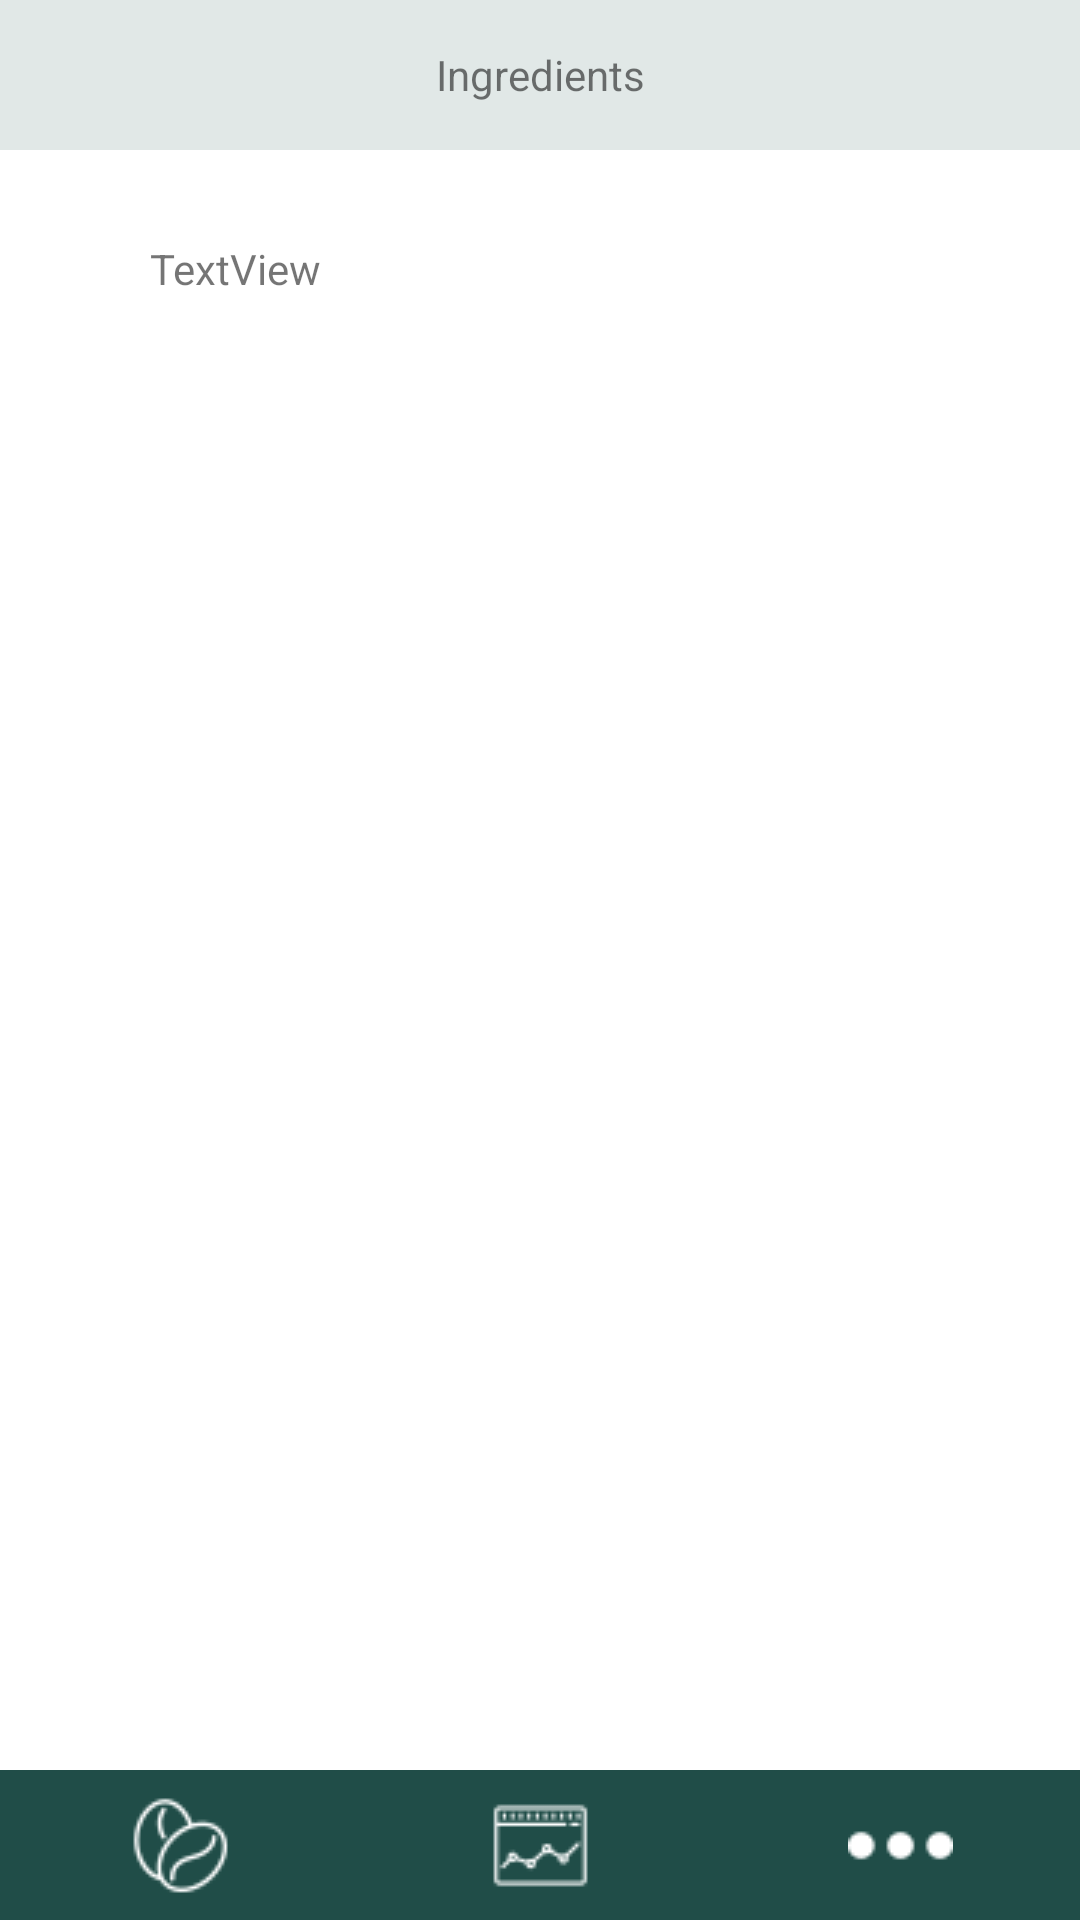

Icons on this 1080px×1920px Android screen, each with the point to tap as (x,y):
bottomnav beans: (180,1845)
bottomnav graph: (540,1845)
bottomnav more: (900,1845)
